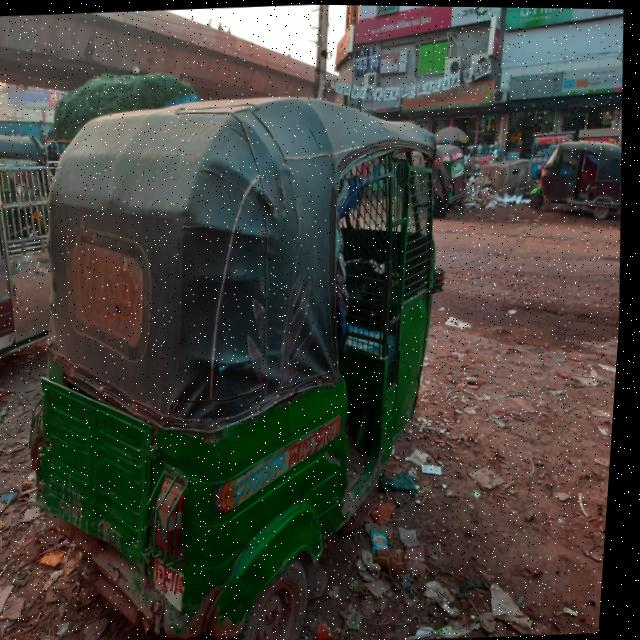cng: (4, 48, 477, 640)
